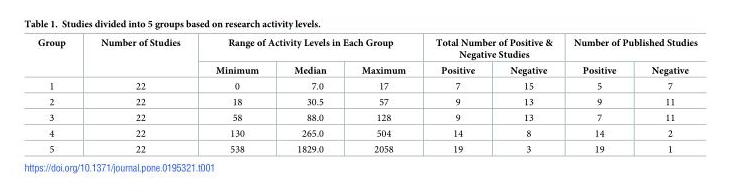table: (37, 37, 696, 154)
table column: (82, 37, 197, 154), (197, 37, 275, 154), (343, 37, 419, 154), (419, 37, 491, 154), (491, 37, 562, 154), (562, 37, 633, 154), (275, 37, 343, 154), (633, 37, 696, 154), (37, 37, 82, 154)
table column header: (37, 37, 696, 77)
table row: (37, 37, 696, 62), (37, 77, 696, 93), (37, 93, 696, 109), (37, 109, 696, 125), (37, 125, 696, 141), (37, 62, 696, 77), (37, 141, 696, 154)
table spanning cell: (197, 37, 419, 62), (82, 37, 197, 77), (419, 37, 562, 62), (562, 37, 696, 62), (37, 37, 82, 77)
